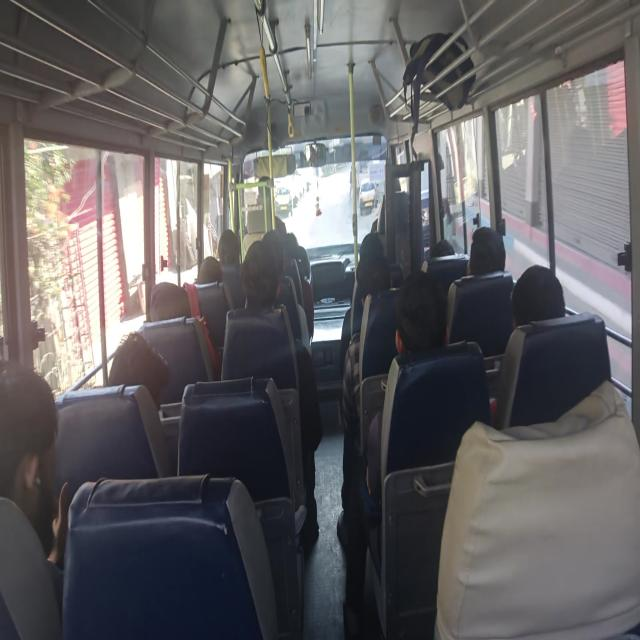person: (2, 342, 70, 543), (393, 271, 453, 377), (108, 324, 186, 400), (513, 259, 568, 334), (150, 280, 205, 335), (239, 242, 279, 317), (465, 221, 510, 282), (358, 255, 396, 296), (380, 176, 416, 218), (217, 221, 246, 271), (352, 228, 392, 260), (257, 224, 286, 268), (284, 221, 305, 271), (426, 236, 460, 266), (256, 174, 282, 209), (198, 253, 222, 290)
